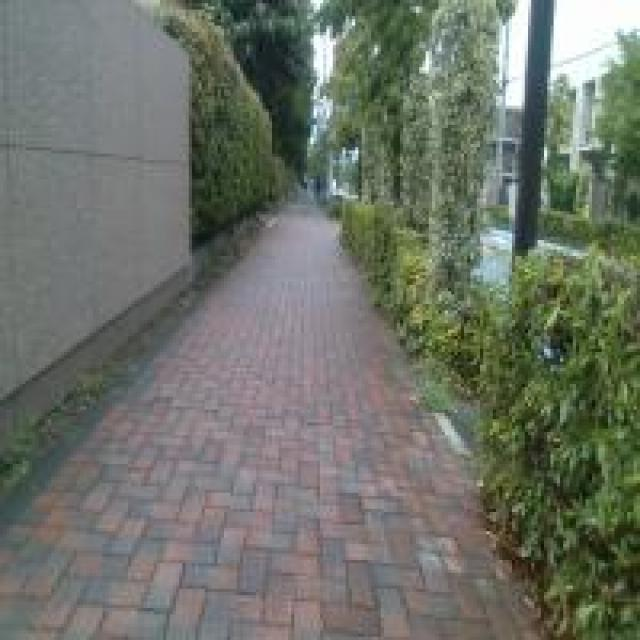Obstacle: (342, 203, 639, 639)
Sidewalk: (0, 205, 538, 639)
